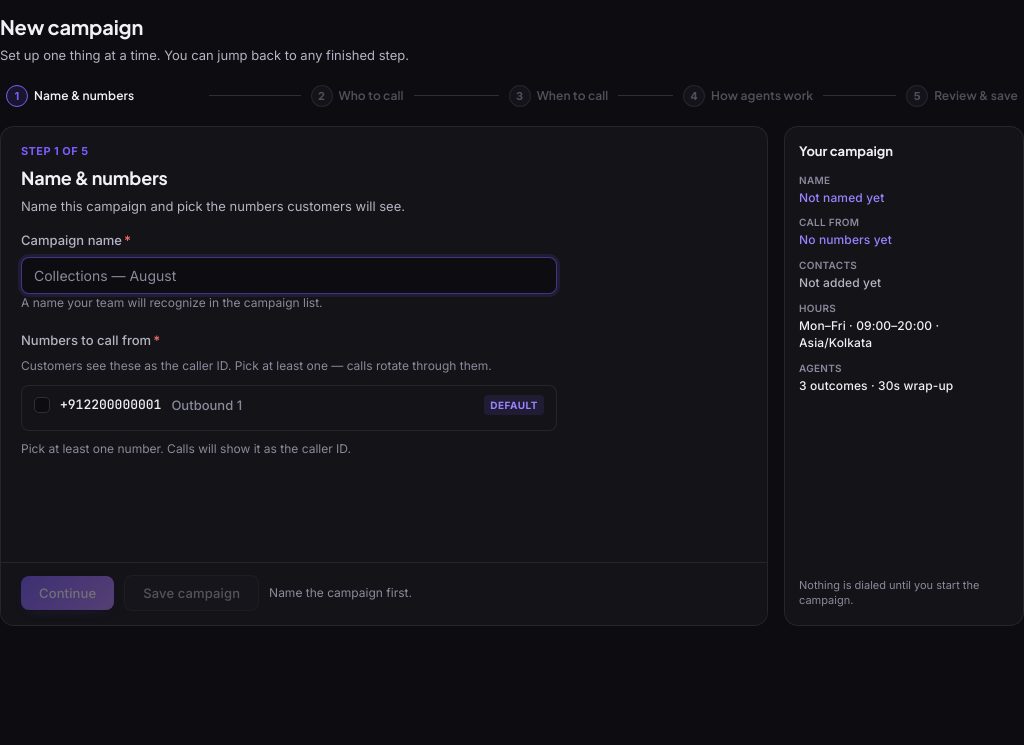
the guided setup path › lets an operator skip contacts and still reach review
The image size is (1024, 745).
Type "Collections" into the field labelled "Campaign name*" at (289, 275), box [21,257,557,294]
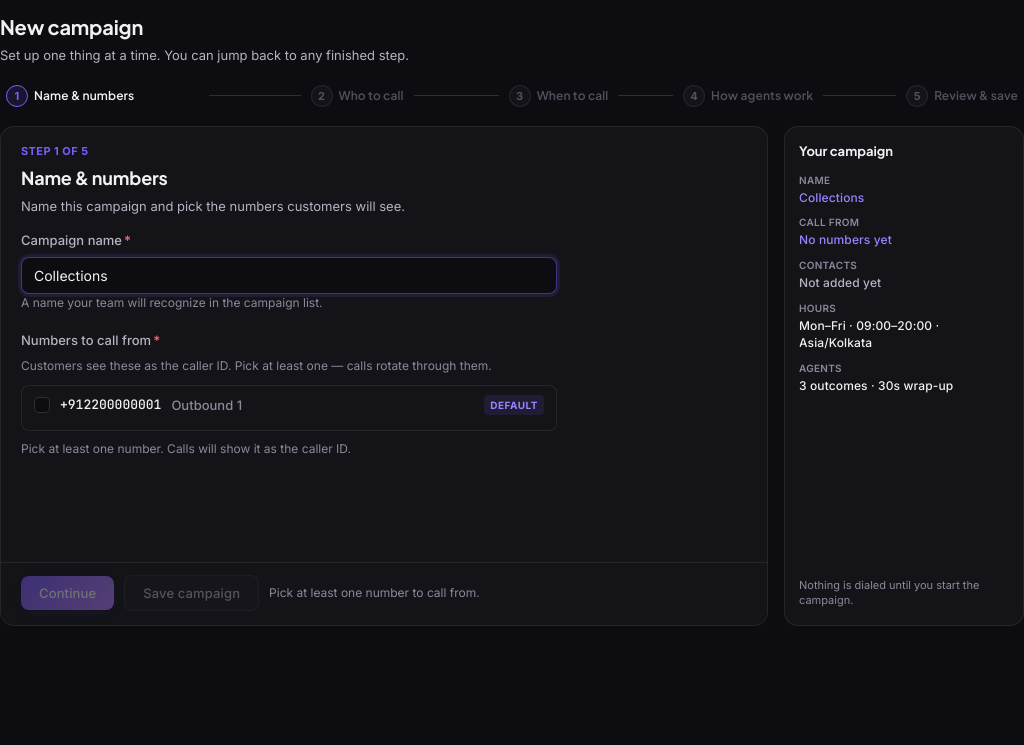
Click the checkbox labelled "+912200000001 Outbound 1 Default" at (42, 405), box [34,397,50,413]
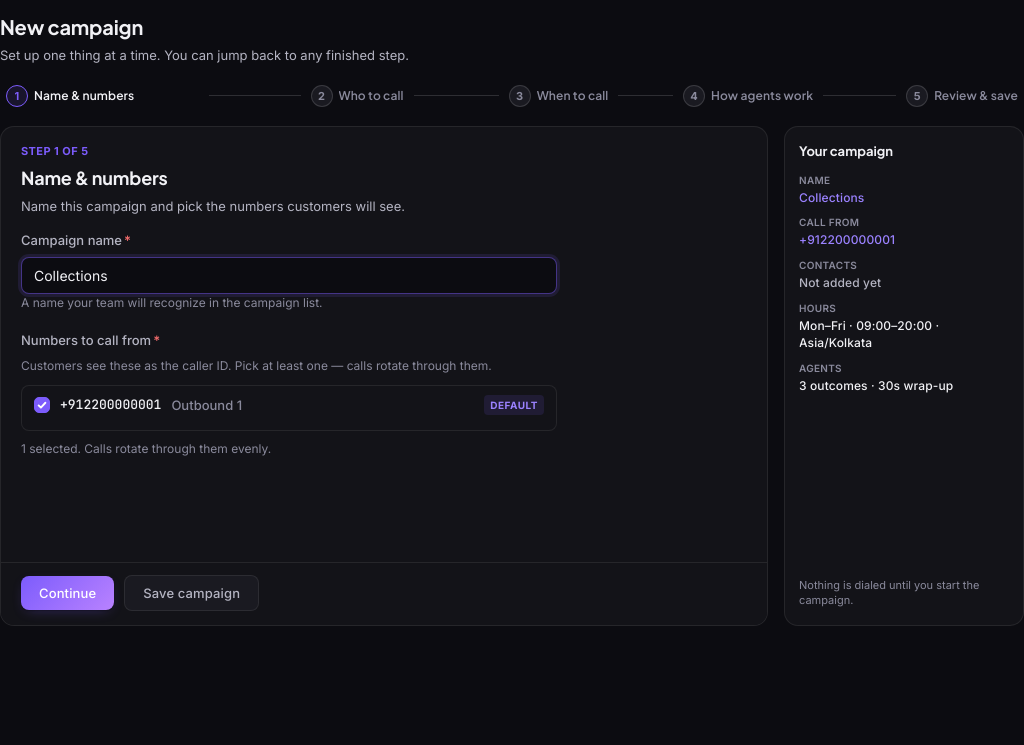
Click the button "Continue" at (68, 593), box [21,576,114,610]
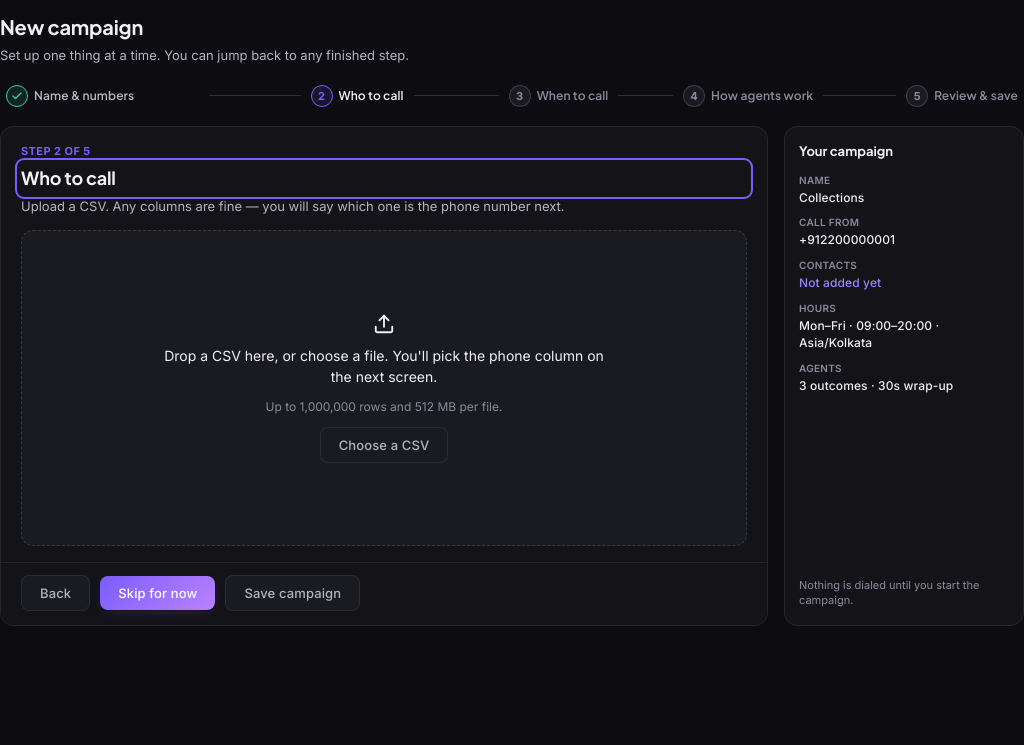
Click the button "Skip for now" at (158, 593), box [100,576,215,610]
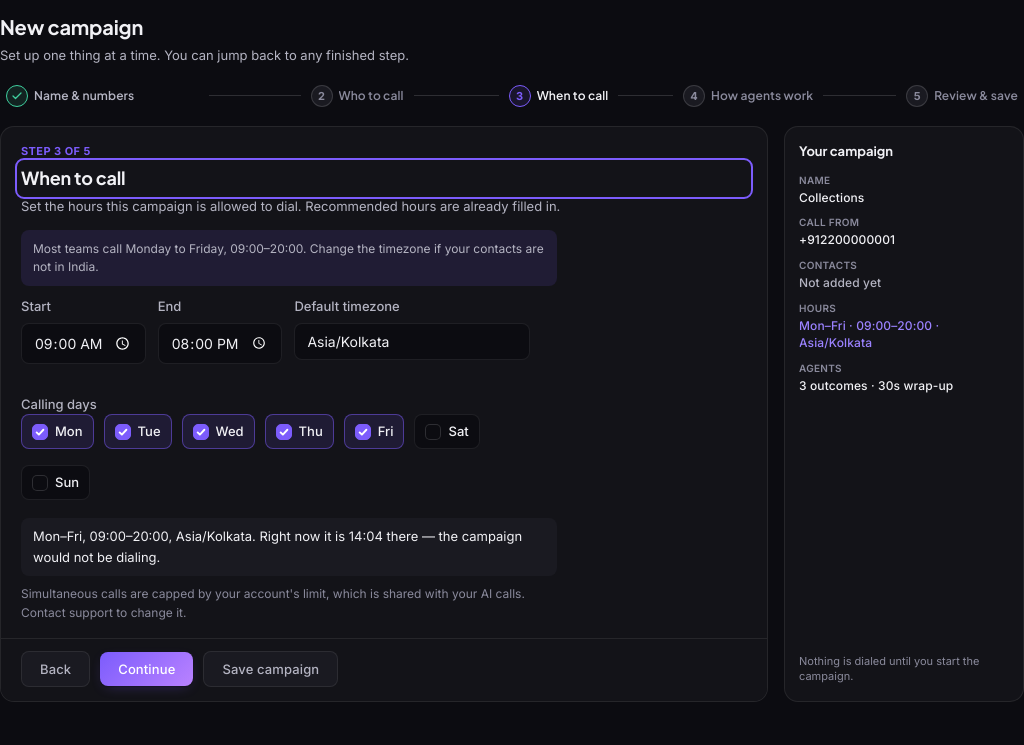
Result: the element with test id "builder-step" has attribute data-step="hours" at [0,126,768,702]
Click the button "Continue" at (147, 669), box [100,652,193,686]
(page scrolled)
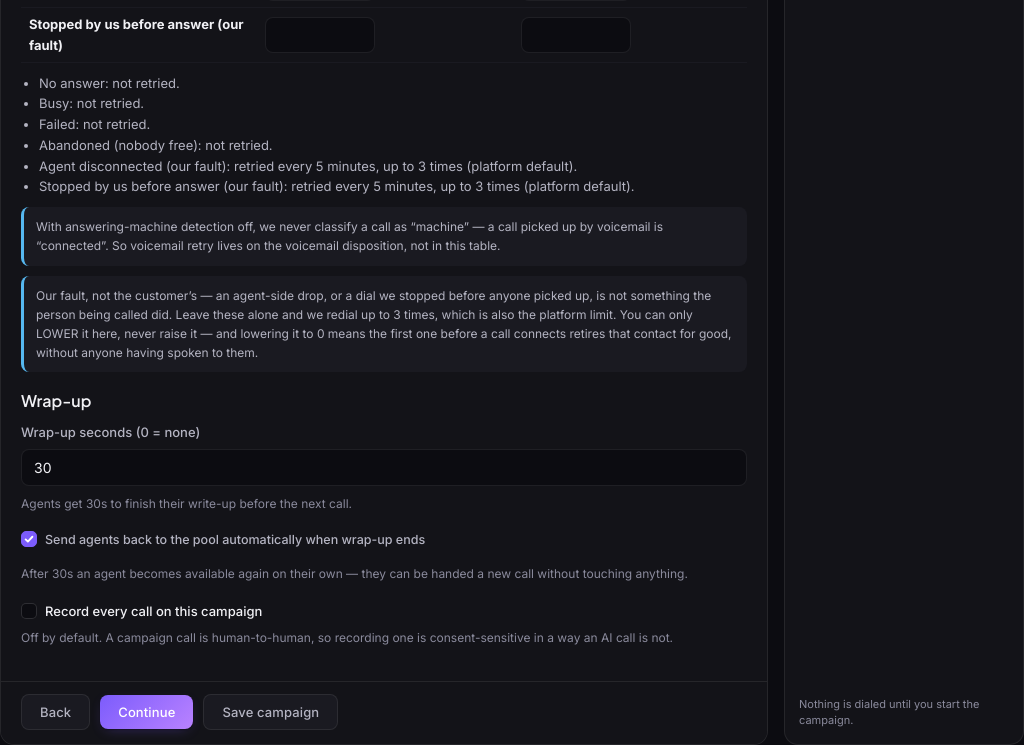
Click the button "Continue" at (147, 712), box [100,695,193,729]
(page scrolled)
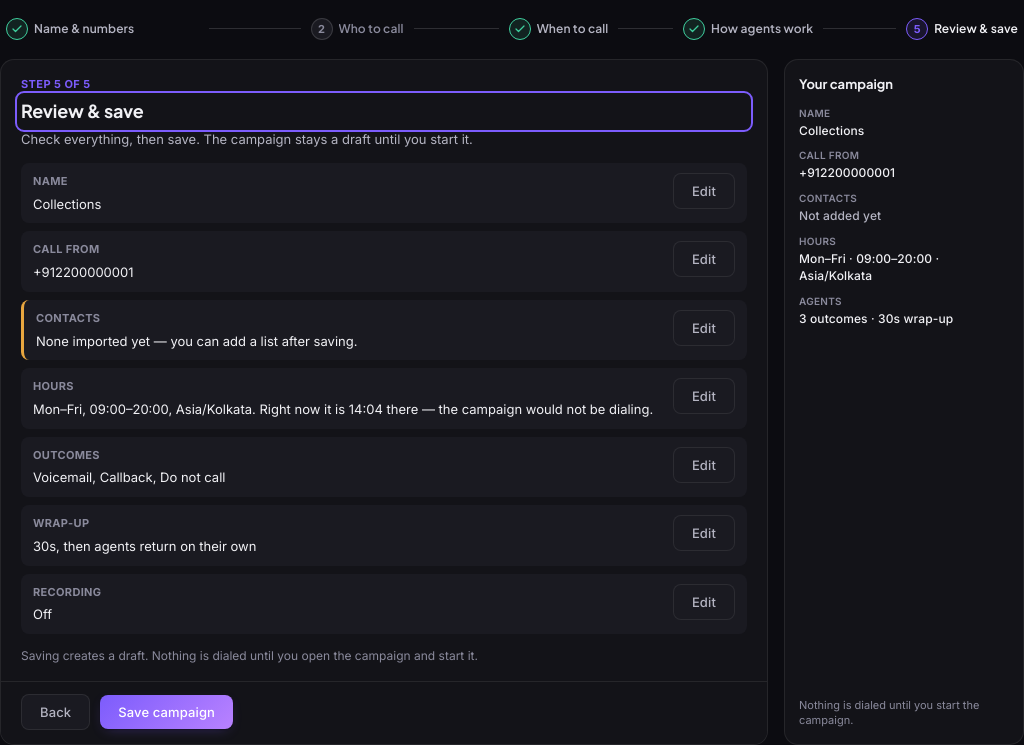
Result: the element with test id "builder-review" shows "None imported yet — you can add a list after saving." at [36,332,358,348]
Result: the element with test id "builder-review" shows "Collections" at [33,196,101,212]
Result: the element with test id "builder-review" shows "+912200000001" at [33,264,134,280]
